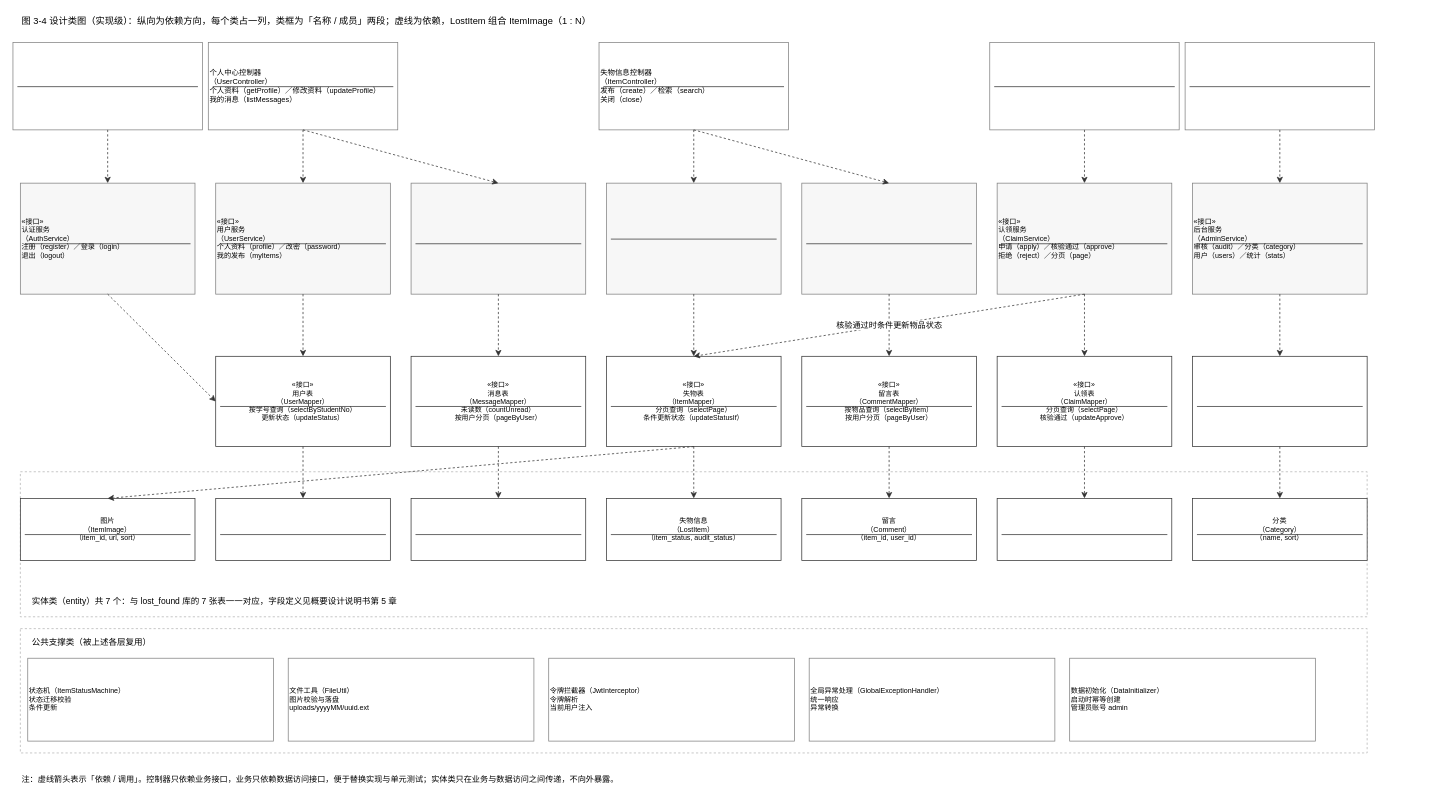
This 1439x808 diagram has some shape labels left out. The shapes that lost their labels are listed below. From the top down, each one's centre as x and y in pixels, then its label:
point 107,86: 认证控制器 （AuthController） 注册（register）／登录（login） 退出登录（logout）
point 1084,86: 认领控制器 （ClaimController） 申请（apply）／核验通过（approve） 核验拒绝（reject）
point 1279,86: 后台管理控制器 （AdminController） 审核（audit）／分类（category） 统计（stats）
point 498,238: «接口» 消息服务 （MessageService） 推送（push）／列表（page） 已读（read）／未读数（countUnread）
point 693,238: «接口» 失物信息服务 （ItemService） 发布（publish）／编辑（edit） 检索（search）／详情（detail） 关闭（close）
point 888,238: «接口» 留言服务 （CommentService） 发表（add）／删除（remove） 按物品分页（pageByItem）
point 1279,401: «接口» 分类表 （CategoryMapper） 基础增删改查（BaseMapper） 统计物品数（countItems）
point 302,529: 用户 （User） （student_no, role）
point 498,529: 站内消息 （Message） （is_read, type）
point 1084,529: 认领申请 （Claim） （status, admin_id）
